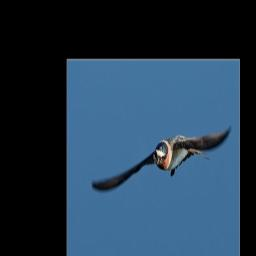Swallow: (91, 121, 231, 190)
